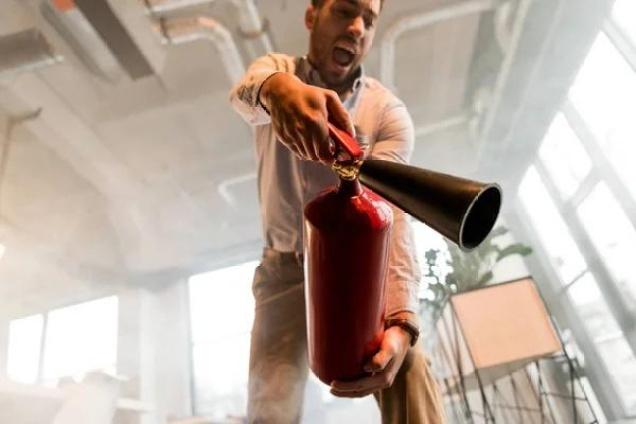APAR: (302, 118, 396, 390)
